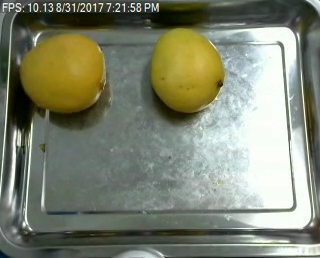Mango: (18, 33, 106, 113), (149, 26, 224, 111)
